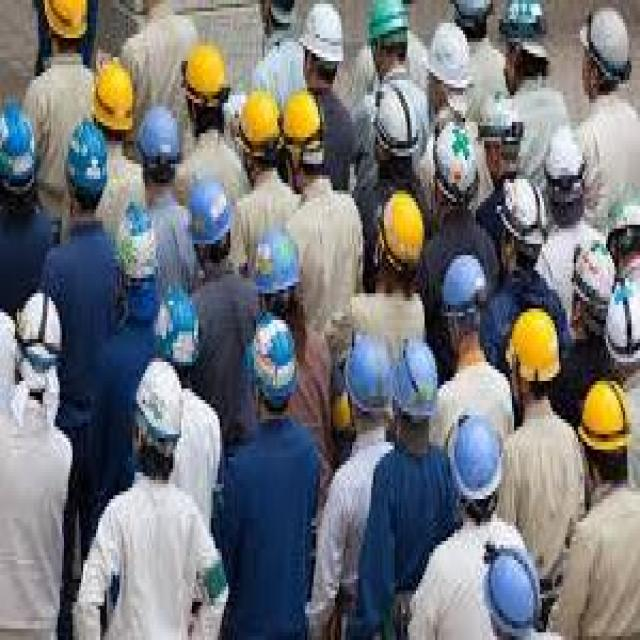Reflective-Jacket: (32, 221, 128, 377)
Safety-Helmet: (126, 350, 190, 450), (245, 308, 305, 408), (56, 114, 115, 210), (181, 164, 239, 255), (450, 411, 504, 499), (578, 4, 636, 84), (0, 95, 43, 202), (88, 53, 138, 141), (250, 225, 303, 301), (580, 377, 632, 453), (510, 308, 561, 384), (392, 339, 440, 419), (132, 103, 186, 171), (182, 38, 232, 107), (344, 335, 391, 408), (382, 190, 427, 266), (424, 22, 472, 88), (300, 4, 346, 65), (239, 88, 282, 148), (442, 252, 484, 308), (544, 126, 585, 183), (362, 0, 412, 46)
